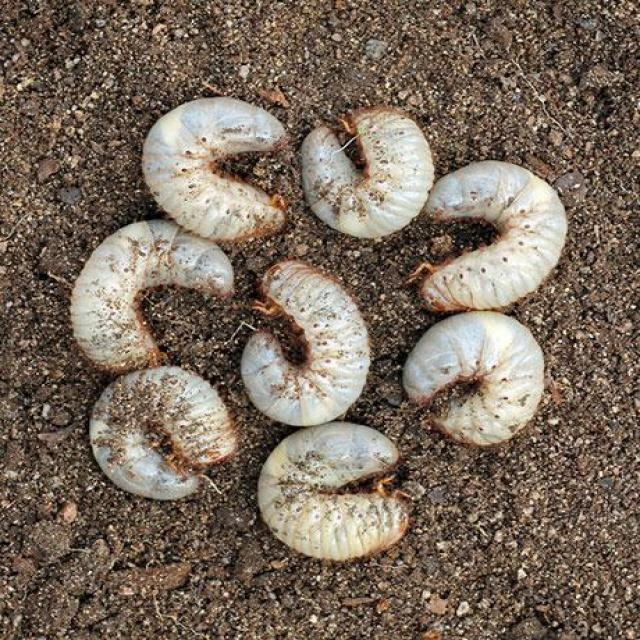Grub-Adult-: (67, 210, 246, 372), (247, 414, 424, 573), (74, 357, 240, 519), (232, 255, 386, 427), (275, 100, 441, 251), (416, 160, 570, 322), (130, 97, 293, 248), (395, 300, 546, 451)
